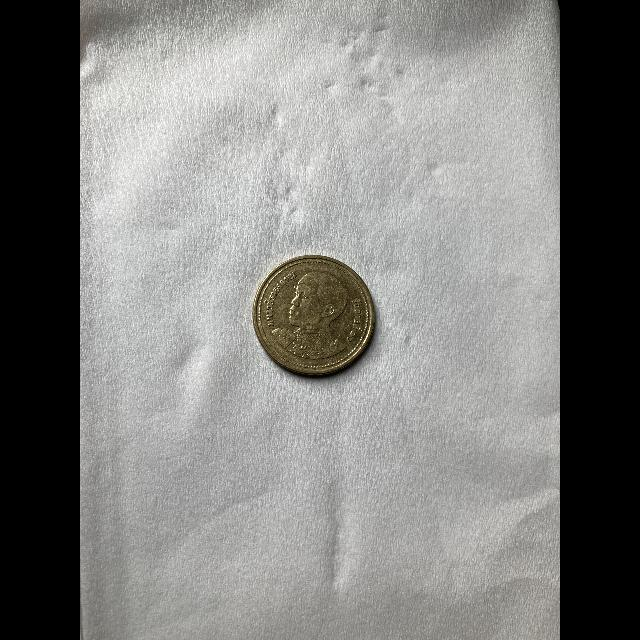2 Bath: (253, 254, 381, 379)
